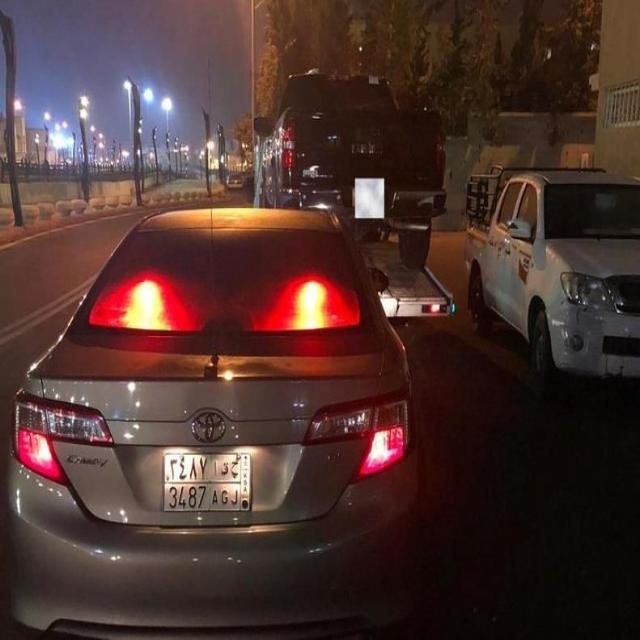license_plate: (160, 450, 254, 514)
